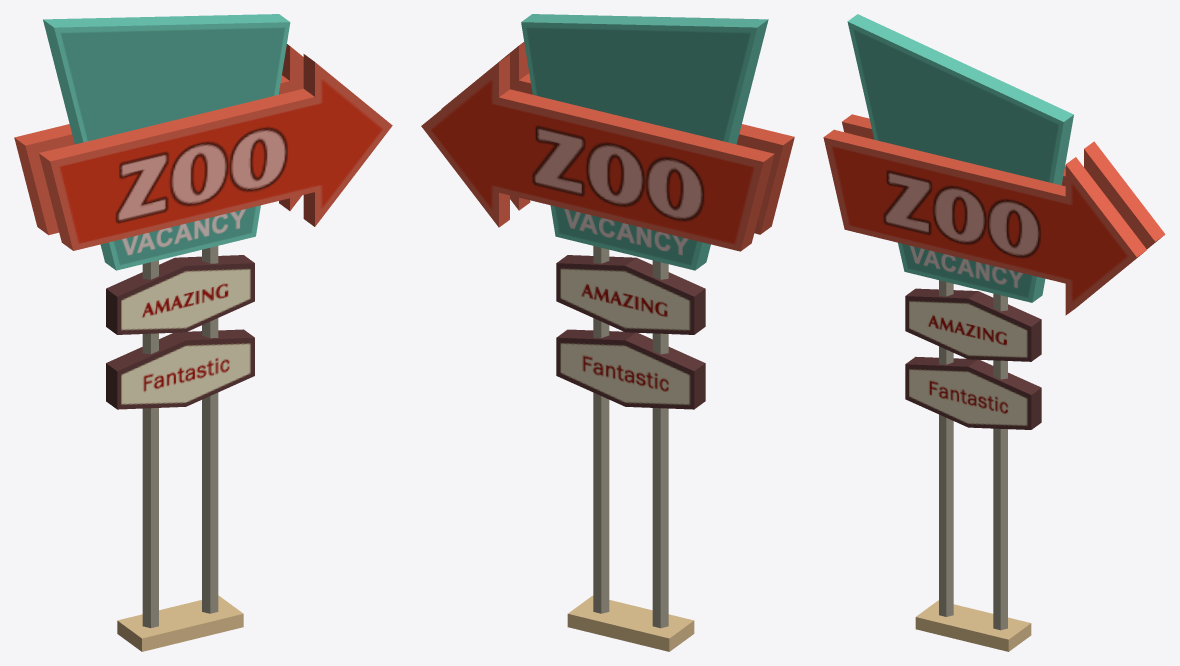
The model's file is west_zs05.FBX.
The picture shows the model from 3 angles, left to right: view 1: azimuth 30°, elevation 25°; view 2: azimuth 150°, elevation 25°; view 3: azimuth 330°, elevation 25°; orthographic projection. The views are drawn at different scales.
Visible parts, largest first — view 1: west_zs05; view 2: west_zs05; view 3: west_zs05.
Part boxes in pixels (<box>): west_zs05: <box>14,14,392,651</box>; west_zs05: <box>421,14,794,651</box>; west_zs05: <box>823,14,1165,651</box>.
Bounding box in the file's own units: 1546 × 2738 × 261.
